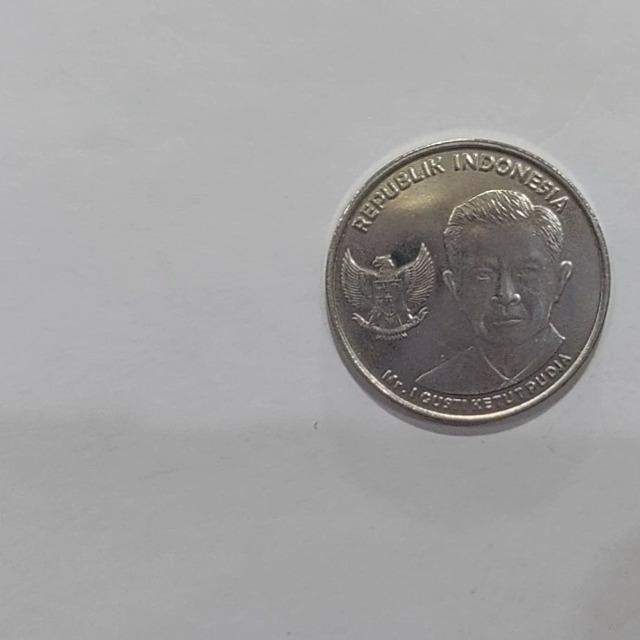Rp100: (324, 136, 612, 430), (407, 185, 576, 398)
